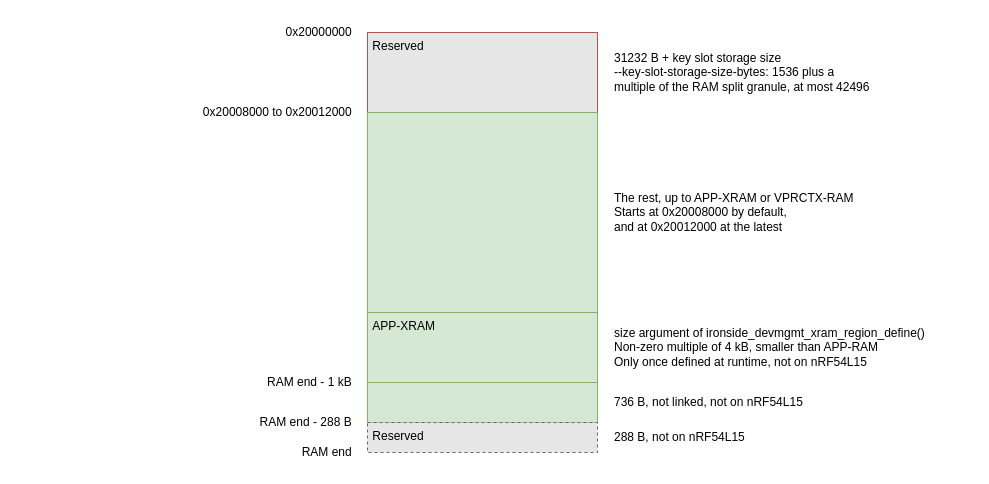
Image size: 989x484. Some labels were removed from this diagram. Each missing label, with the centre of its shape:
APP-RAM: pixel 482 212
VPRCTX-RAM: pixel 482 402
